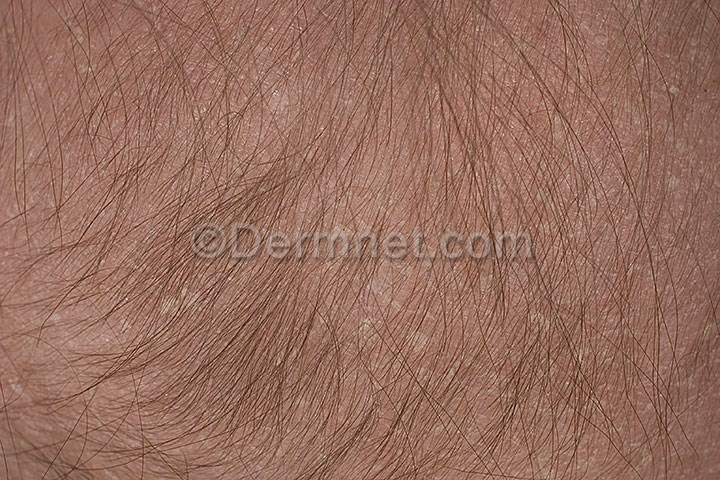Eczema: (190, 3, 349, 181), (643, 40, 720, 347), (10, 1, 143, 172), (545, 34, 633, 253), (357, 255, 481, 353), (40, 291, 130, 353), (1, 359, 57, 439), (150, 275, 209, 323)
